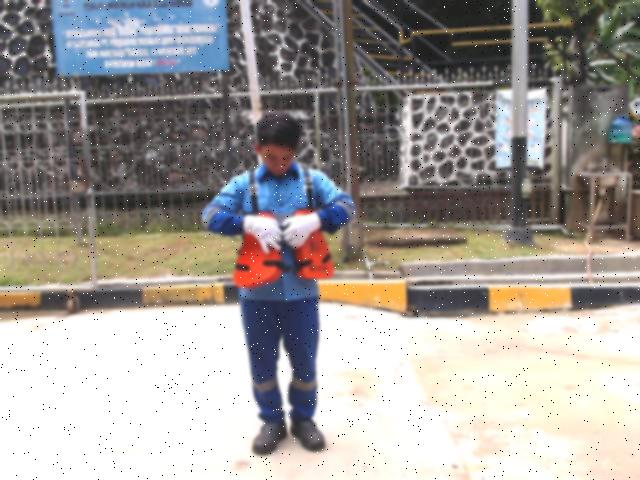gloves: (239, 211, 290, 258), (277, 209, 325, 254)
safety-shoes: (248, 411, 290, 459), (288, 413, 331, 458)
vest: (229, 203, 343, 289)
